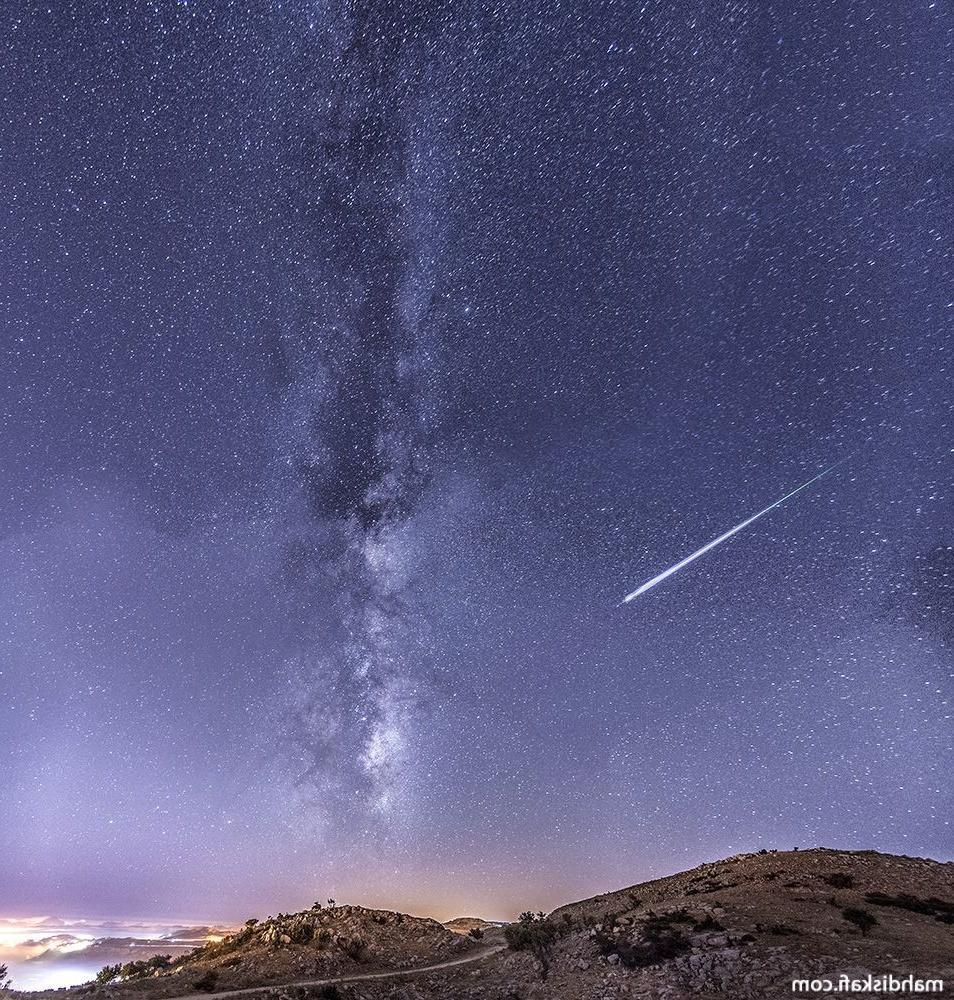meteorite: (588, 388, 851, 612)
